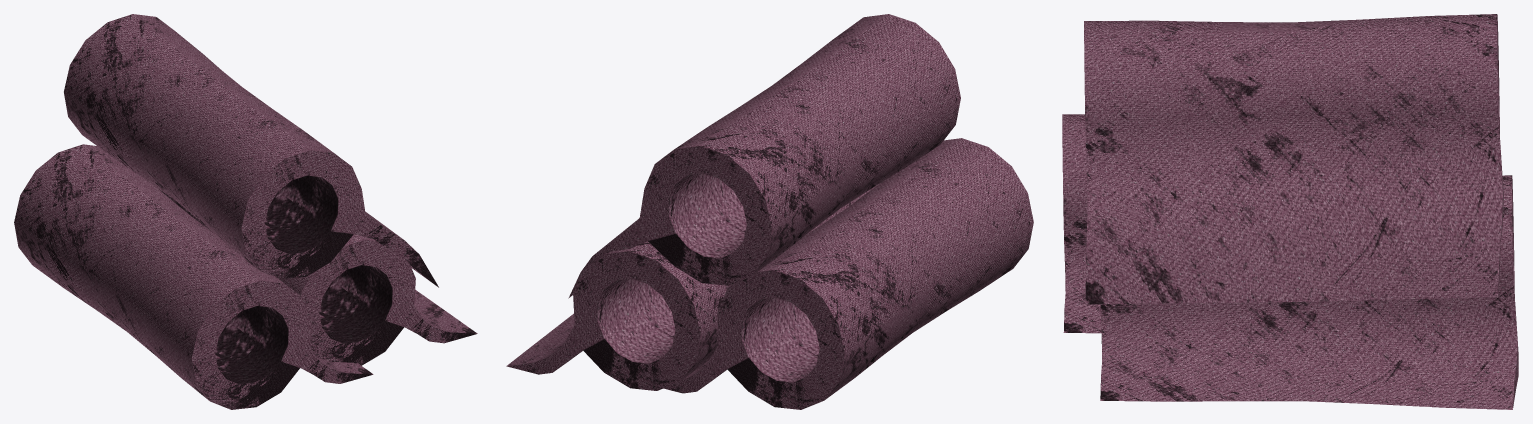
Rendered from 3RollosDeTela.fbx.
3 renders of one model, left to right at view 1: azimuth 30°, elevation 25°; view 2: azimuth 150°, elevation 25°; view 3: azimuth 270°, elevation 25°, orthographic. The views are drawn at different scales.
Visible parts, largest first — view 1: RolloTela.003, RolloTela.002, RolloTela.001; view 2: RolloTela.003, RolloTela.002, RolloTela.001; view 3: RolloTela.003, RolloTela.001, RolloTela.002.
Part boxes in pixels (x1,y1,x2,y2): RolloTela.003: (64,14,438,287); RolloTela.002: (14,144,373,409); RolloTela.001: (159,189,477,365); RolloTela.003: (568,14,960,298); RolloTela.002: (663,138,1033,409); RolloTela.001: (506,183,879,390); RolloTela.003: (1084,14,1503,304); RolloTela.001: (1100,175,1518,409); RolloTela.002: (1062,114,1101,333).
Size of the model in its own units: 159 by 123 by 178.
Materials: 3 (3 with a texture image).
